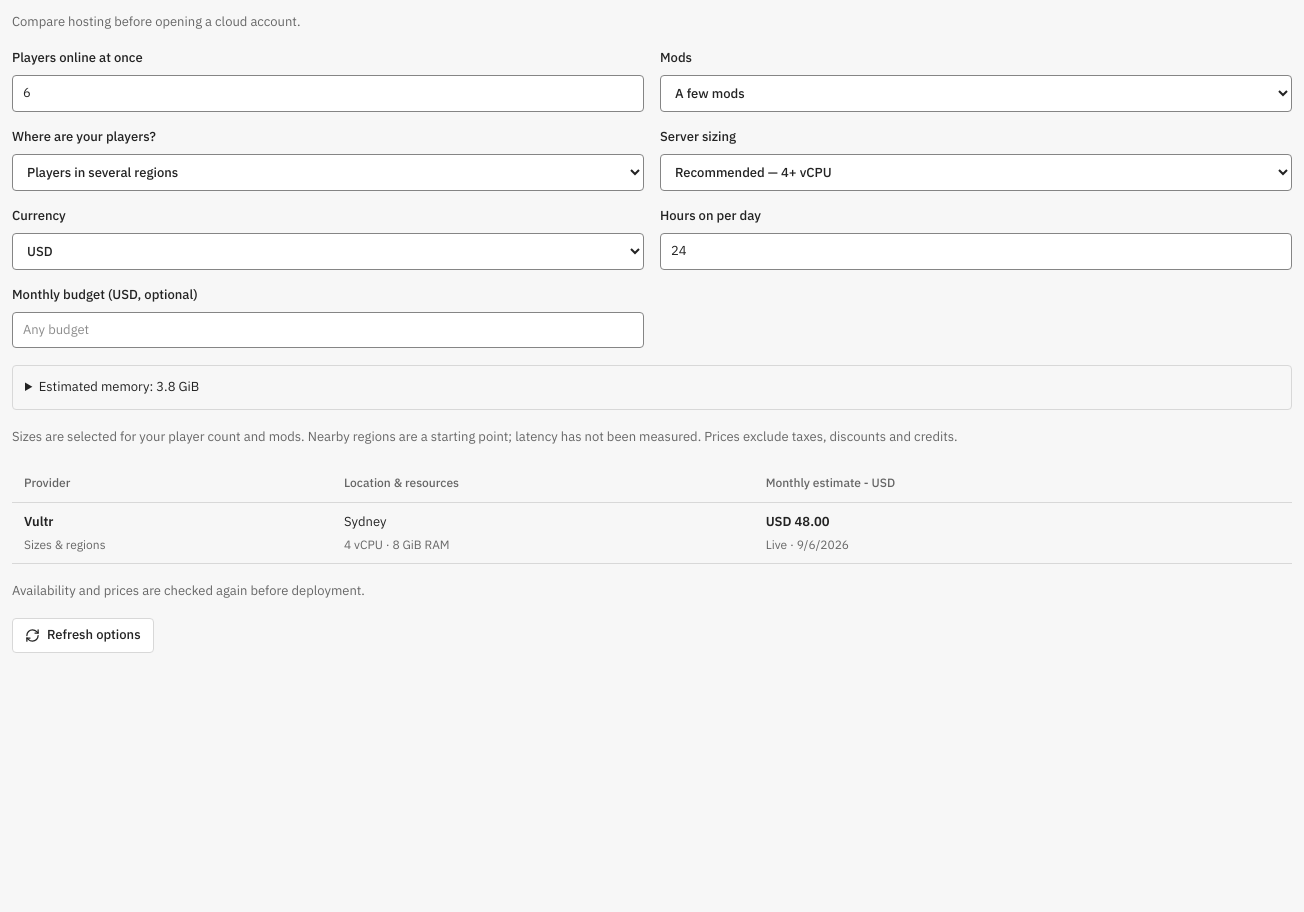
requires recommended CPU by default and makes economy an explicit choice
Expected: the text "4 vCPU · 8 GiB RAM" is shown, 344,537 -> 450,552
Select "Economy — allow 2 vCPU" in the dropdown labelled "Server sizing" at x=976, y=172, box 660,154 -> 1292,191
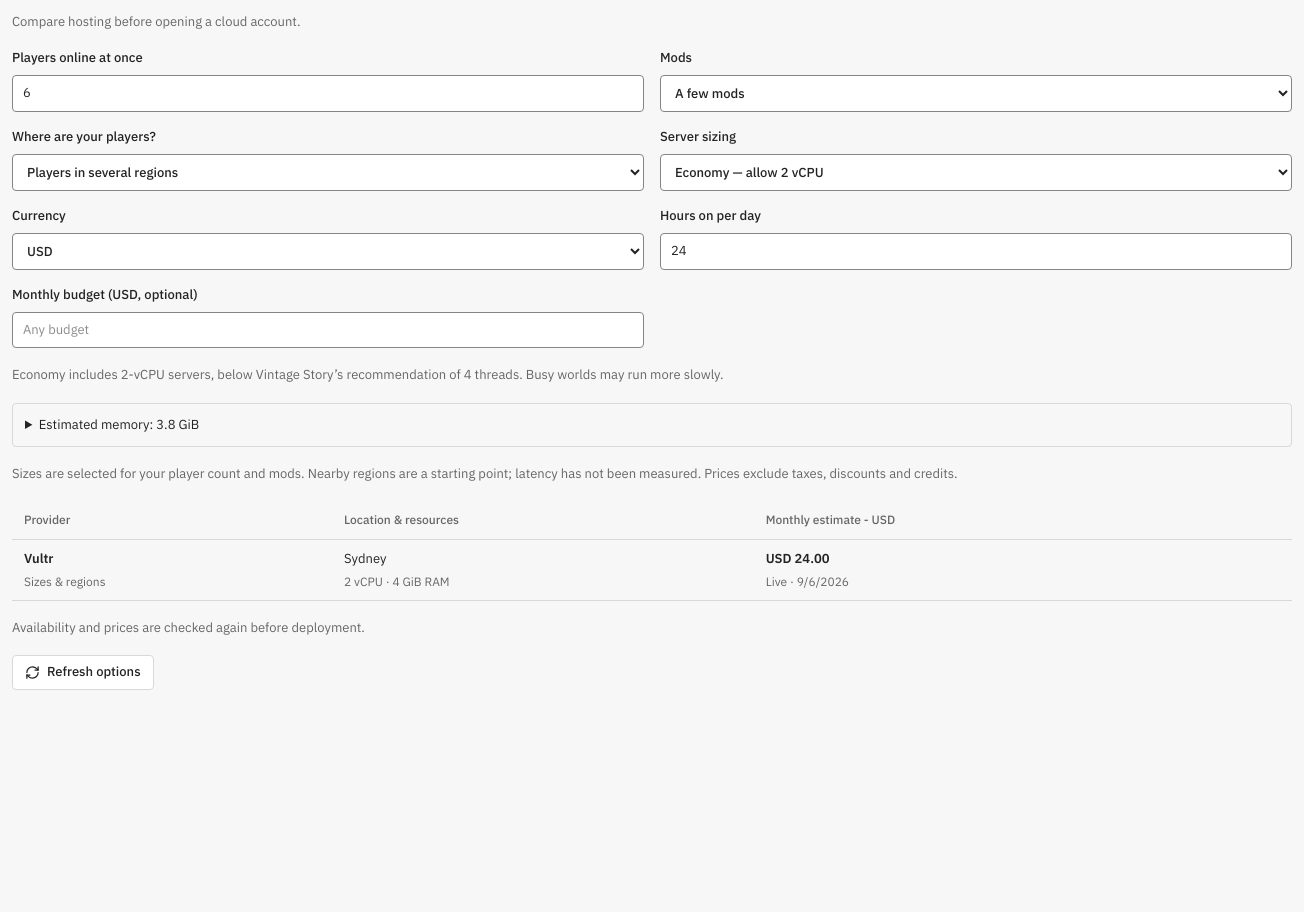
Result: the text "2 vCPU · 4 GiB RAM" is shown at 344,574 -> 450,589
Result: the text "below Vintage Story’s recommendation of 4 threads" is shown at 12,366 -> 723,383
